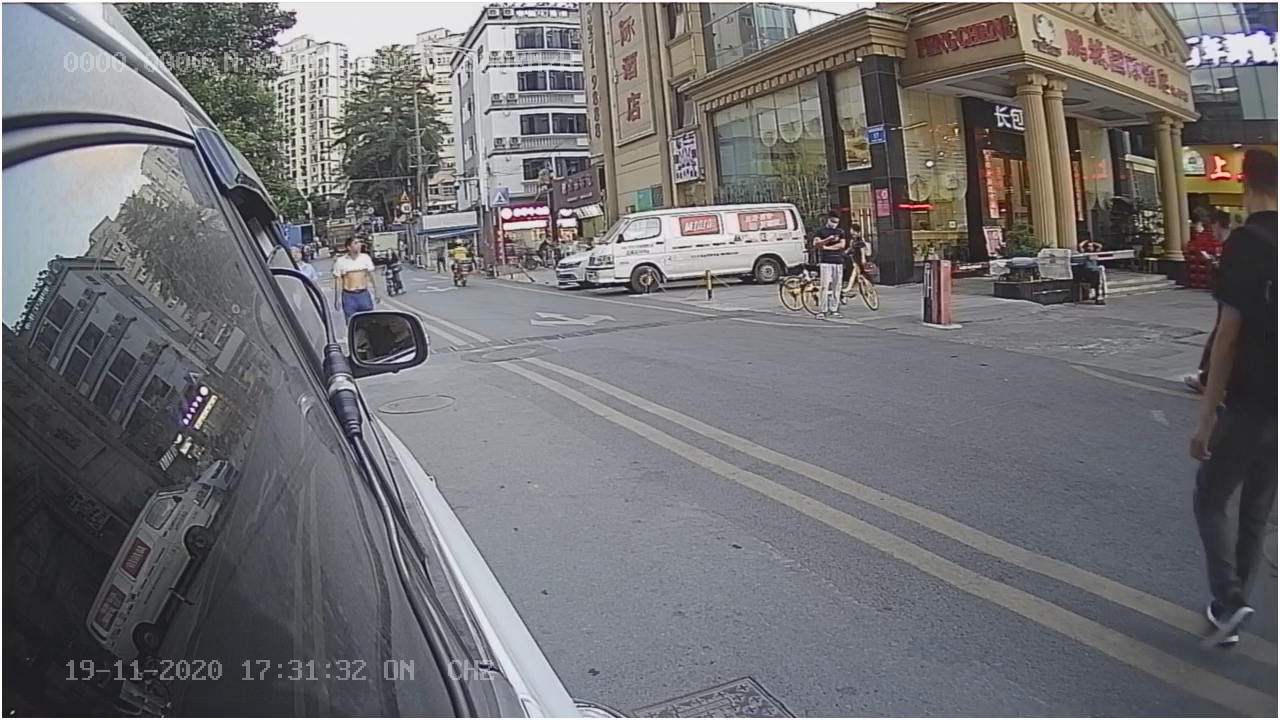person: (330, 234, 381, 305)
